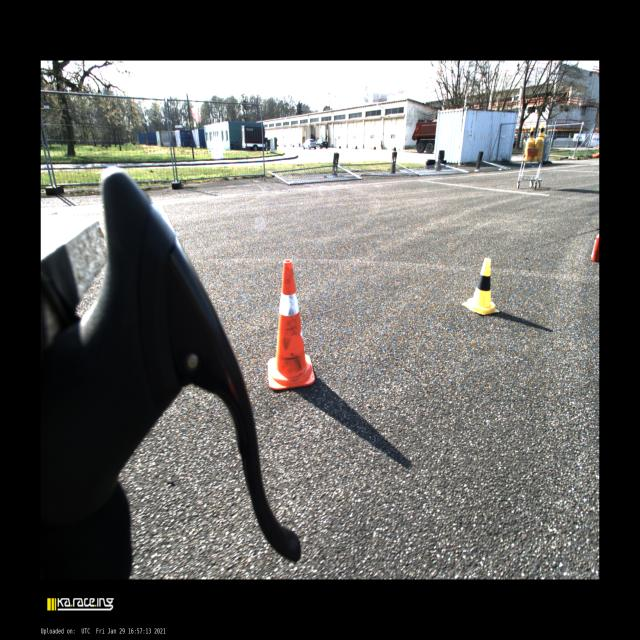large_orange_cone: (267, 259, 315, 389)
yellow_cone: (462, 258, 499, 314), (527, 126, 535, 142), (538, 123, 545, 139)
